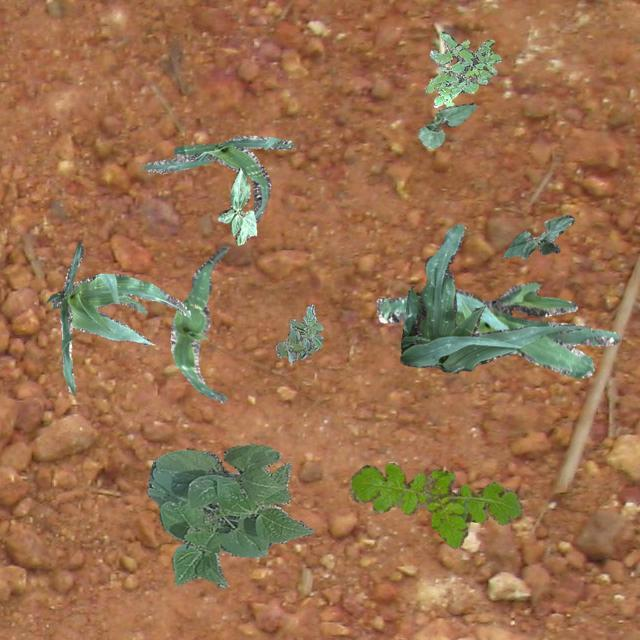crop: (400, 222, 580, 372), (374, 280, 618, 378), (146, 444, 314, 586), (46, 242, 190, 394), (140, 134, 294, 220), (170, 245, 228, 402), (502, 214, 572, 258), (217, 168, 256, 244), (418, 101, 474, 148)
weed: (348, 462, 522, 548), (424, 29, 500, 106), (274, 304, 322, 362)
